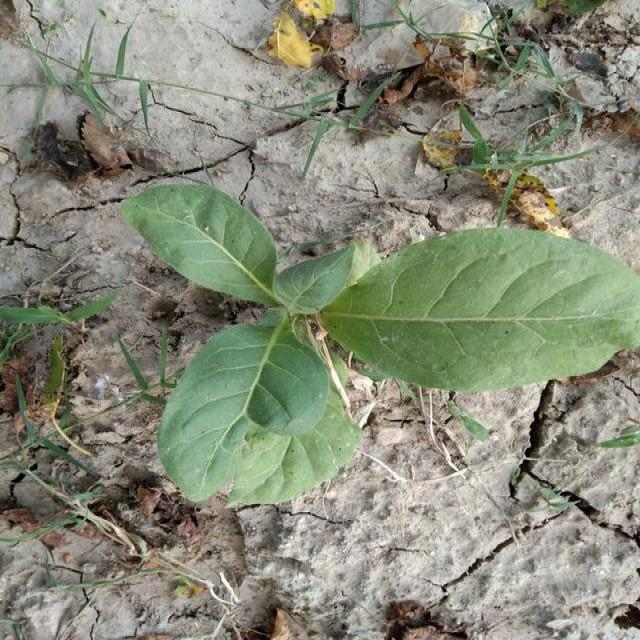crop: (127, 183, 640, 500)
